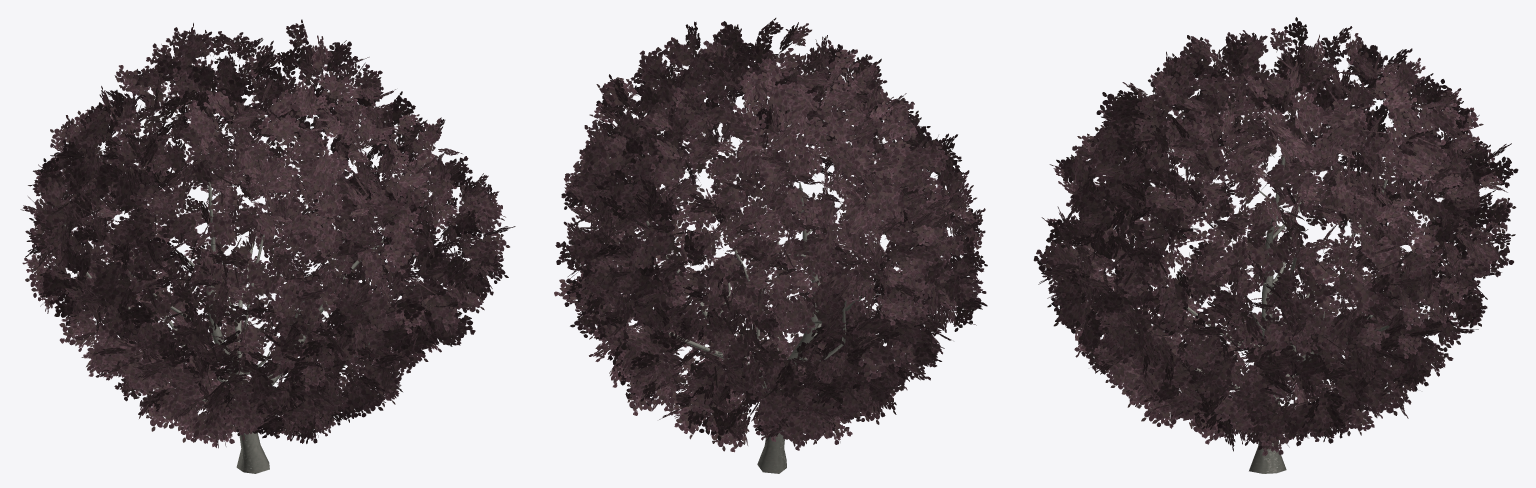
Rendered from hetre_mobile.glb.
The picture shows the model from 3 angles, left to right: view 1: azimuth 30°, elevation 25°; view 2: azimuth 150°, elevation 25°; view 3: azimuth 270°, elevation 25°; orthographic projection. The views are drawn at different scales.
Visible parts, largest first — view 1: hetre_feuilles, hetre_ecorce; view 2: hetre_feuilles, hetre_ecorce; view 3: hetre_feuilles, hetre_ecorce.
Boxes of the visible parts, x1,y1,x2,y2 form: hetre_feuilles: (20,19,515,448); hetre_ecorce: (64,182,386,473); hetre_feuilles: (554,18,987,452); hetre_ecorce: (646,183,871,473); hetre_feuilles: (1033,17,1518,455); hetre_ecorce: (1134,147,1404,473).
Size of the model in its own units: 18.83 by 17.65 by 18.27.
2 materials, 2 textured.
